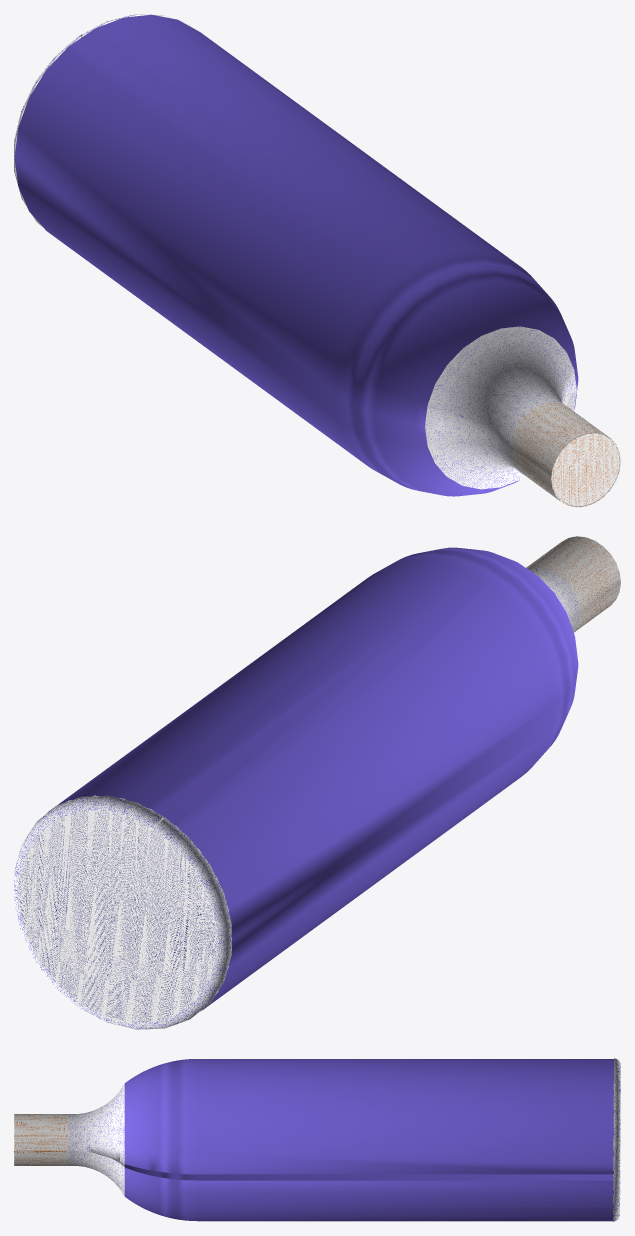
The model's file is model_align.obj.
The picture shows the model from 3 angles, top to bottom: view 1: azimuth 30°, elevation 25°; view 2: azimuth 150°, elevation 25°; view 3: azimuth 270°, elevation 25°; orthographic projection. The views are drawn at different scales.
Parts seen in each view (by area): view 1: mesh1_mesh1-geometry; view 2: mesh1_mesh1-geometry; view 3: mesh1_mesh1-geometry.
Part boxes in pixels (x1,y1,x2,y2): mesh1_mesh1-geometry: (14, 14, 620, 507); mesh1_mesh1-geometry: (14, 536, 620, 1029); mesh1_mesh1-geometry: (14, 1058, 620, 1221).
Size of the model in its own units: 0.0692 by 0.0692 by 0.2577.
